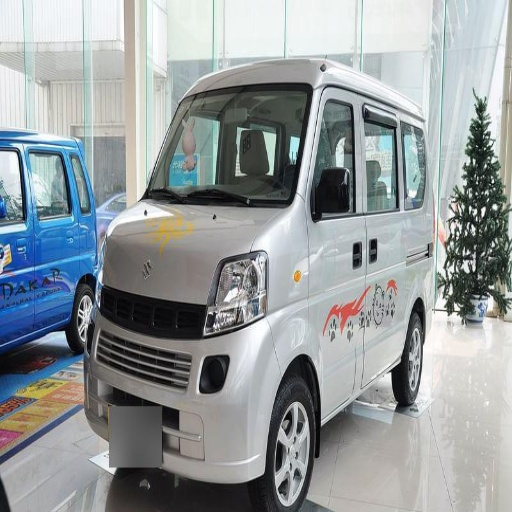front_bumper: (93, 289, 282, 483)
front_glass: (142, 84, 311, 205)
front_left_door: (306, 85, 370, 406)
trunk: (405, 233, 443, 312)
